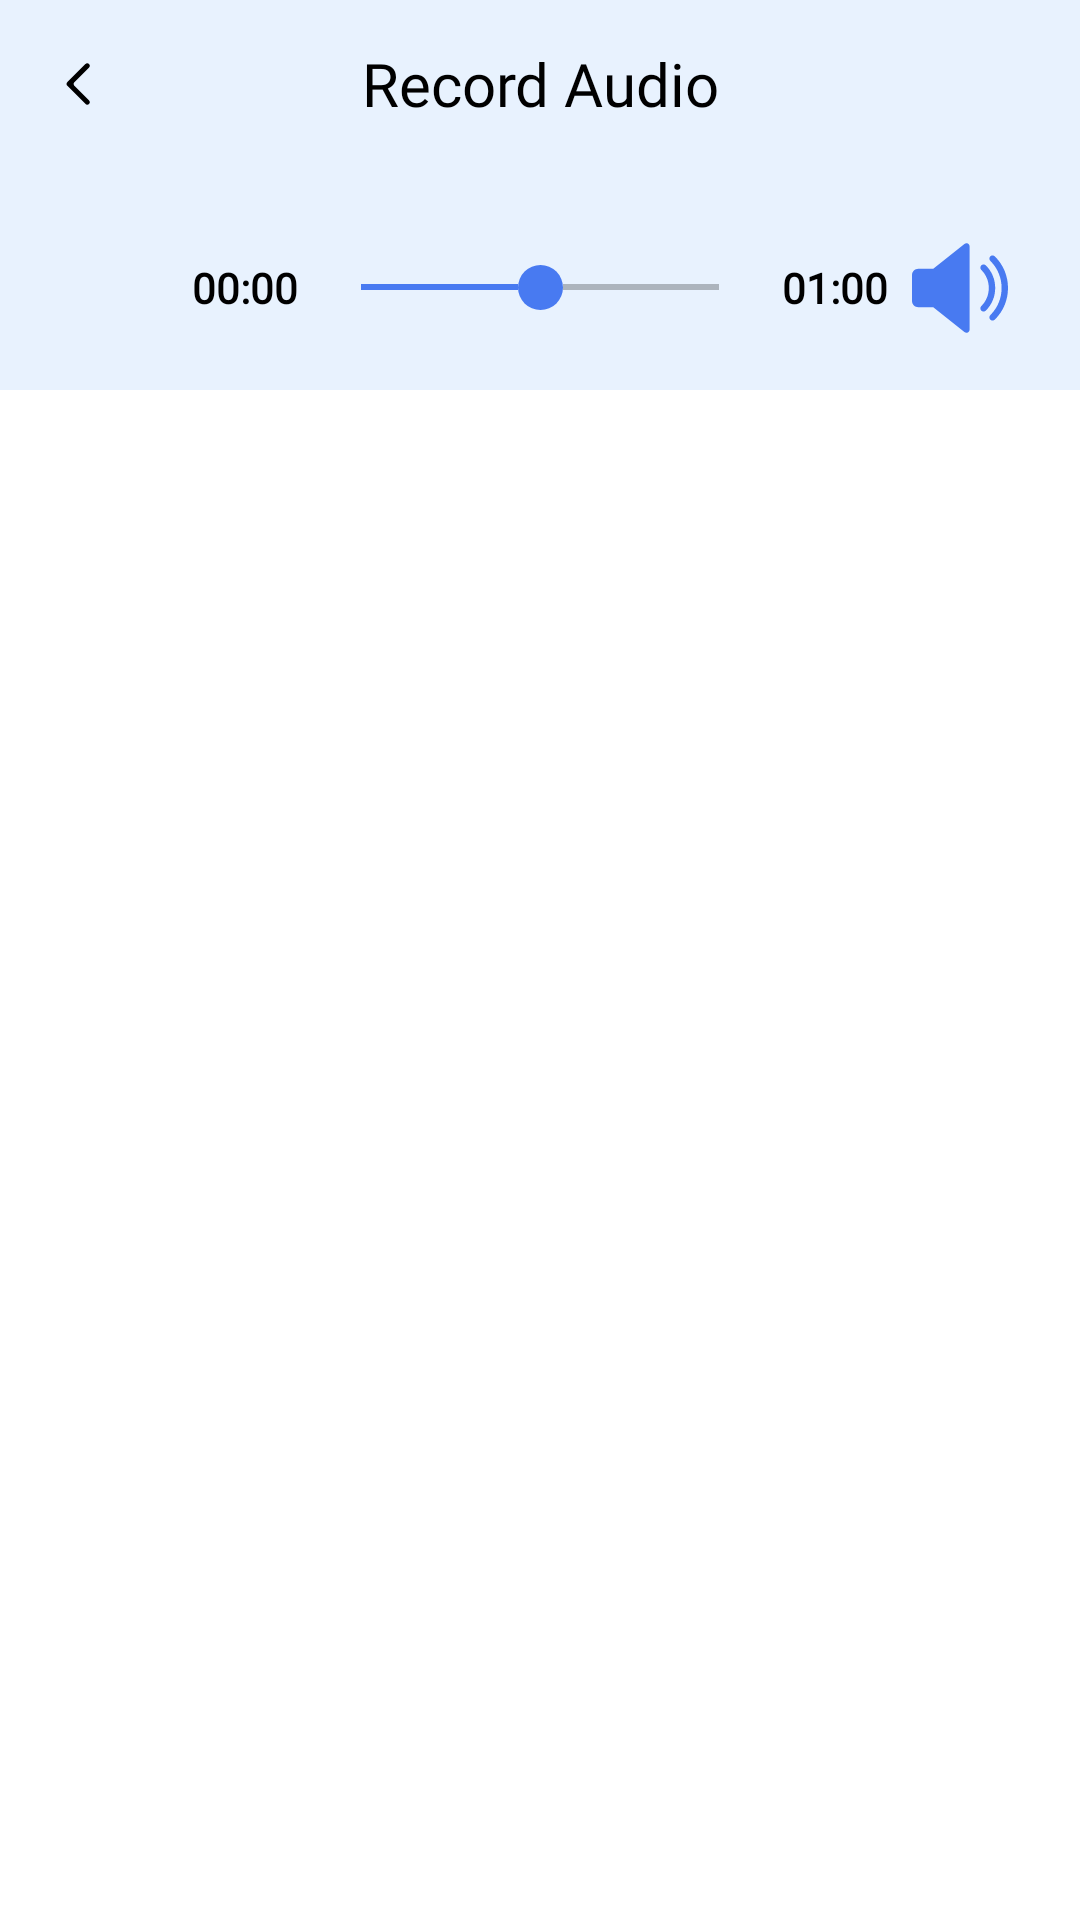

Screen size 1080×1920. Icon name, then its center in pixels as (x=x, y=y):
arrow back: (x=78, y=84)
volume: (x=960, y=288)
